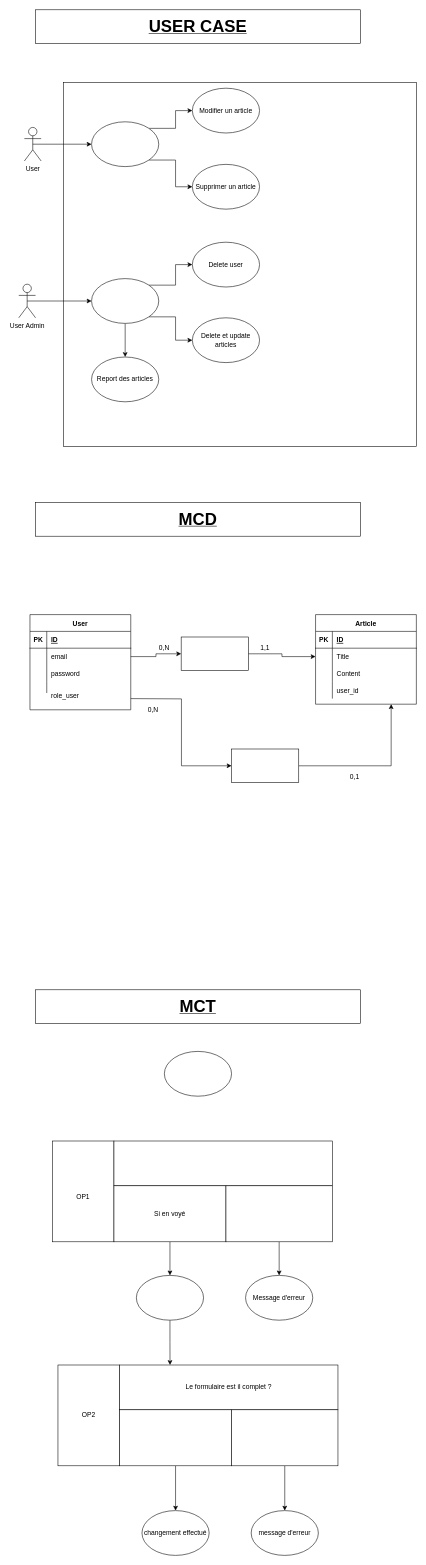
Some shapes in this 426 by 1565 pixel diagram are drawn without their labels. The centre of each missing label's shape, as x and y in pixels:
"Ecrire un article" goes at [125,144].
"envoyé le formulaire" goes at [170,1297].
"Gestion des user et des articles" goes at [125,300].
"L'utilisateur a t'il enoyé sont formulaire" goes at [222,1163].
"REDIGER" goes at [214,653].
"REPORT" goes at [265,765].
"Si complet" goes at [175,1437].
"Si incomplet" goes at [284,1437].
"Si non" goes at [278,1213].
"UPDATE un article ou un user" goes at [198,1073].
